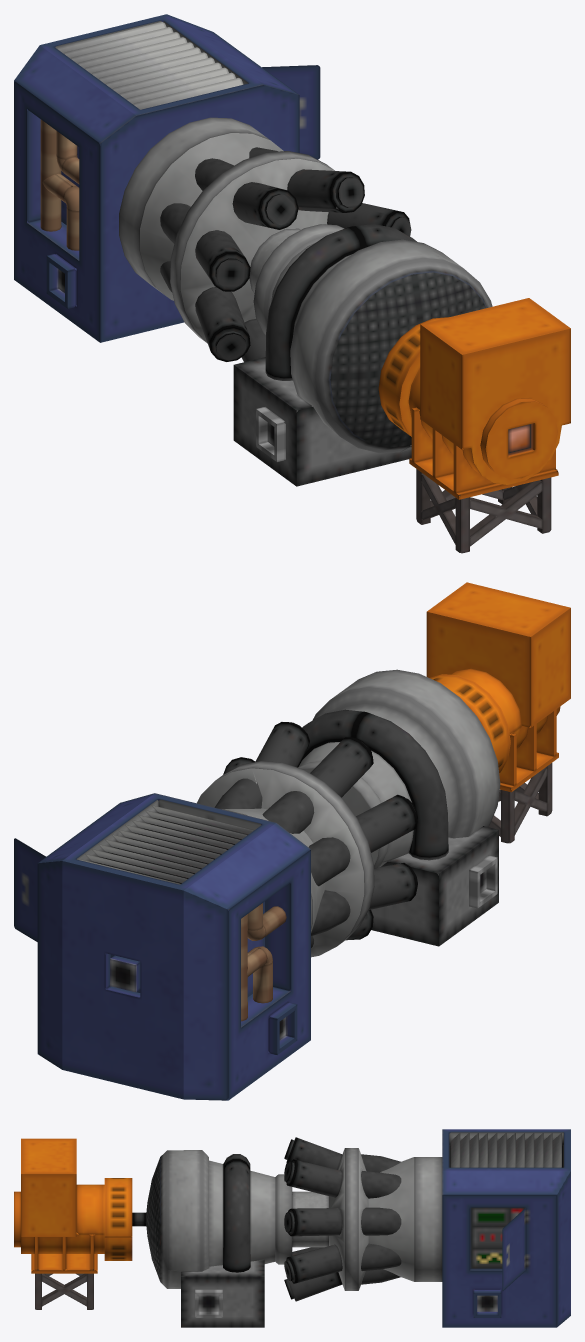
File: turbinegas.obj
The picture shows the model from 3 angles, top to bottom: view 1: azimuth 30°, elevation 25°; view 2: azimuth 150°, elevation 25°; view 3: azimuth 270°, elevation 25°; orthographic projection. The views are drawn at different scales.
Parts seen in each view (by area): view 1: turbineShit_withCOVER; view 2: turbineShit_withCOVER; view 3: turbineShit_withCOVER.
Boxes of the visible parts, x1,y1,x2,y2 form: turbineShit_withCOVER: [14, 14, 570, 553]; turbineShit_withCOVER: [14, 582, 570, 1100]; turbineShit_withCOVER: [14, 1129, 570, 1327].
Size of the model in its own units: 3.78 by 2.88 by 10.
